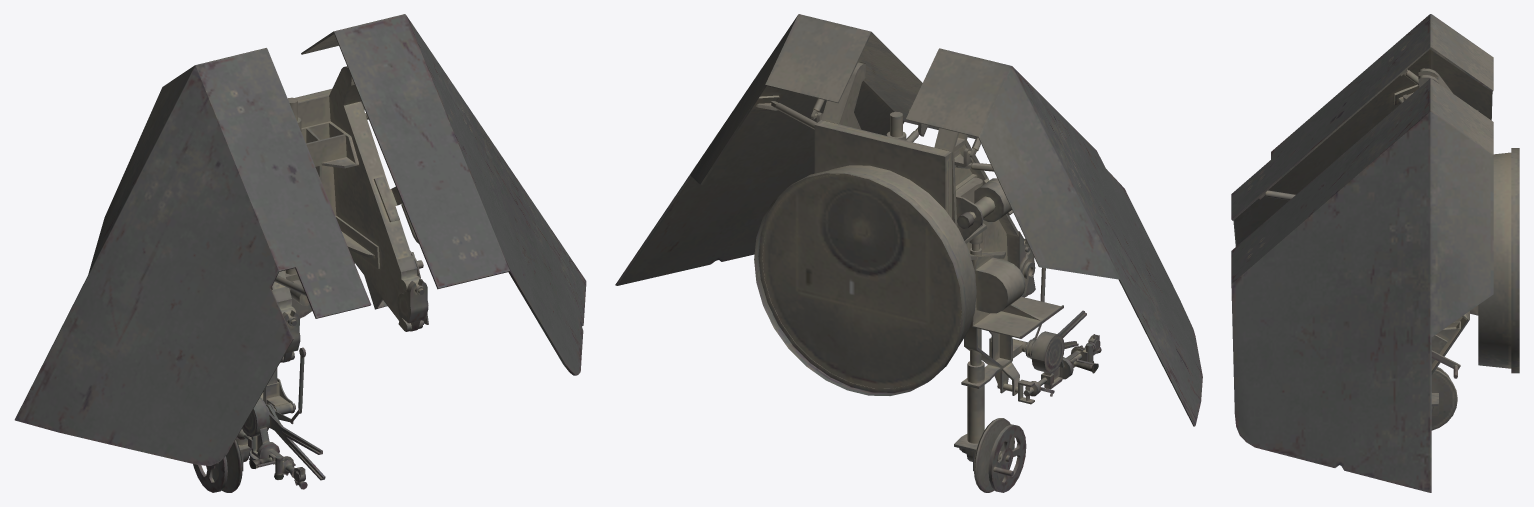
Rendered from Turret_02.glb.
3 renders of one model, left to right at view 1: azimuth 30°, elevation 25°; view 2: azimuth 150°, elevation 25°; view 3: azimuth 270°, elevation 25°, orthographic. The views are drawn at different scales.
Parts seen in each view (by area): view 1: set_0_group_0; view 2: set_0_group_0; view 3: set_0_group_0.
Part boxes in pixels (x1=…): set_0_group_0: x1=14, y1=14, x2=586, y2=492; set_0_group_0: x1=615, y1=14, x2=1202, y2=492; set_0_group_0: x1=1231, y1=14, x2=1519, y2=492.
Bounding box in the file's own units: 3.09 × 2.21 × 1.41.
Materials: 1 (1 with a texture image).
